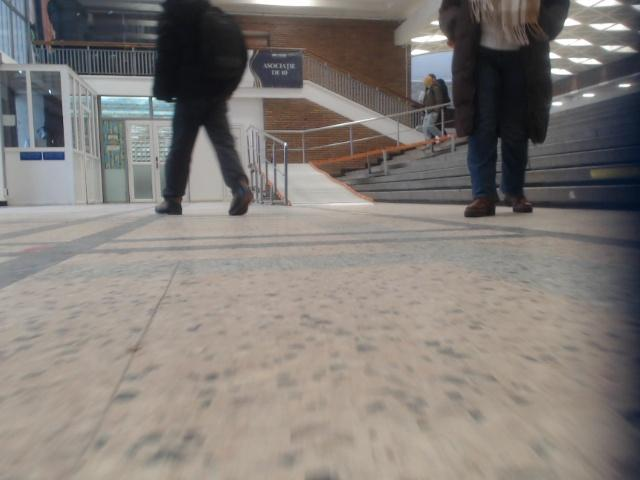rampUp: (269, 160, 371, 205)
ramps-railing: (262, 109, 420, 162), (244, 125, 292, 204), (388, 122, 428, 151), (319, 136, 359, 162)
